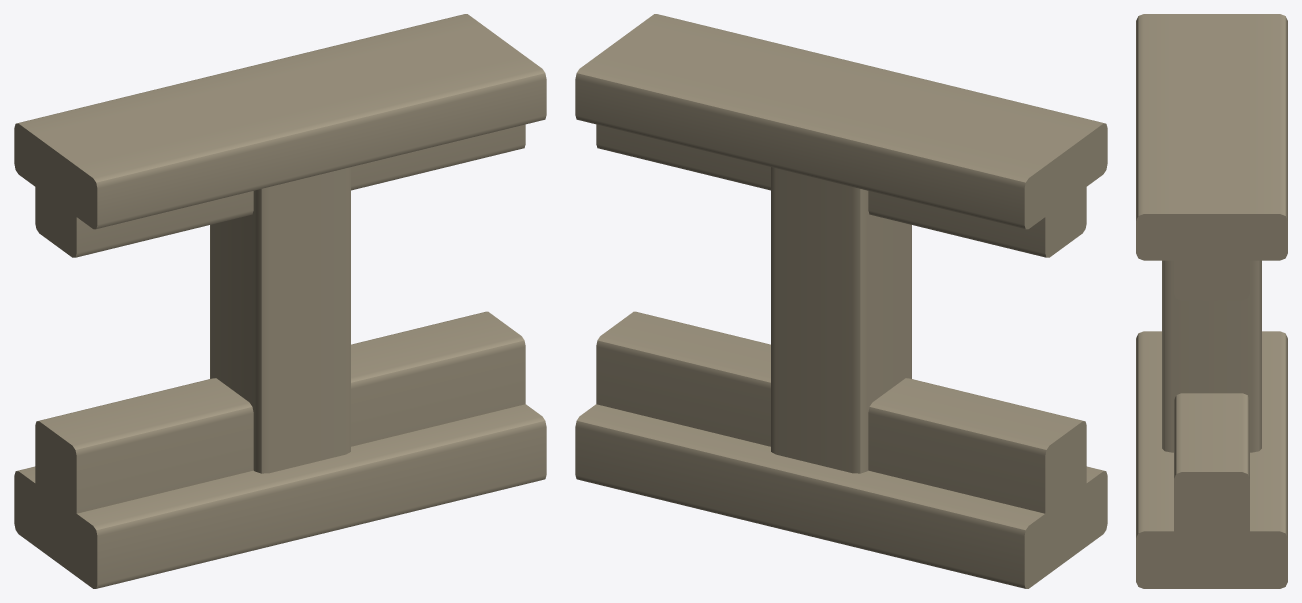
File: Rail_001.fbx
3 views of the same model, side by side, from view 1: azimuth 30°, elevation 25°; view 2: azimuth 150°, elevation 25°; view 3: azimuth 270°, elevation 25° (orthographic). The views are drawn at different scales.
Visible parts, largest first — view 1: Rail_001; view 2: Rail_001; view 3: Rail_001.
Boxes of the visible parts, x1=… form: Rail_001: x1=14, y1=14, x2=546, y2=588; Rail_001: x1=575, y1=14, x2=1107, y2=588; Rail_001: x1=1136, y1=14, x2=1287, y2=588.
Bounding box in the file's own units: 1 × 0.8738 × 0.3205.
